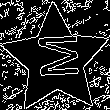M_W: (30, 35, 81, 84)
